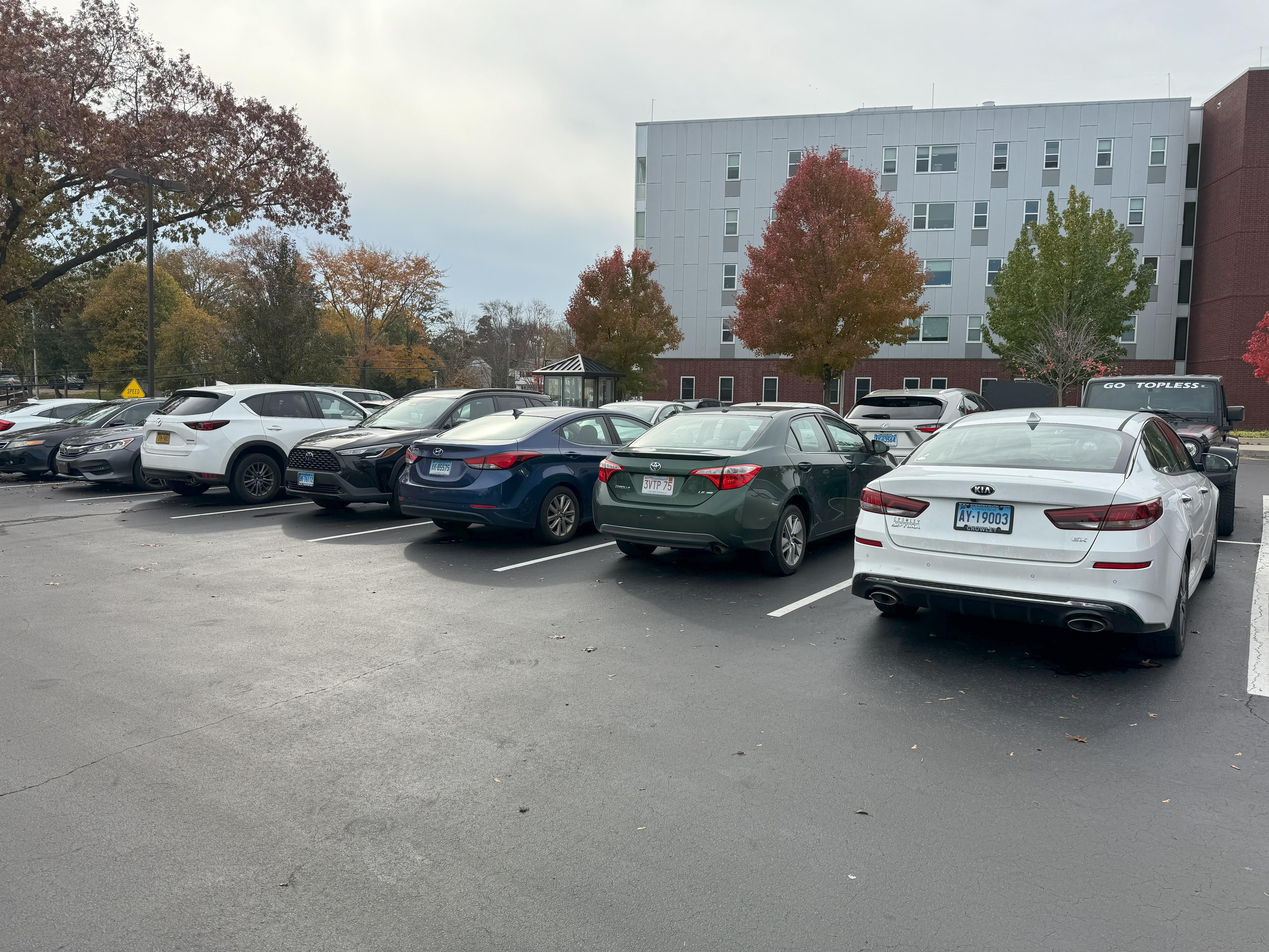occupied: (869, 405, 1216, 659), (623, 398, 841, 591), (411, 409, 597, 558), (143, 372, 297, 499), (296, 396, 418, 533), (65, 396, 142, 499)
